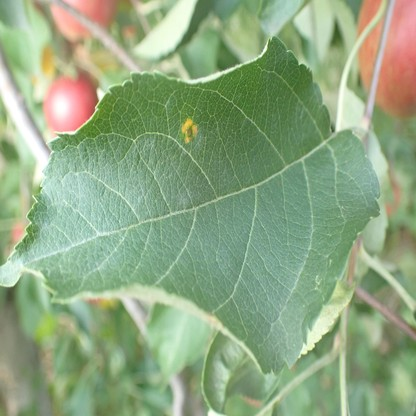rust: (181, 117, 198, 143)
